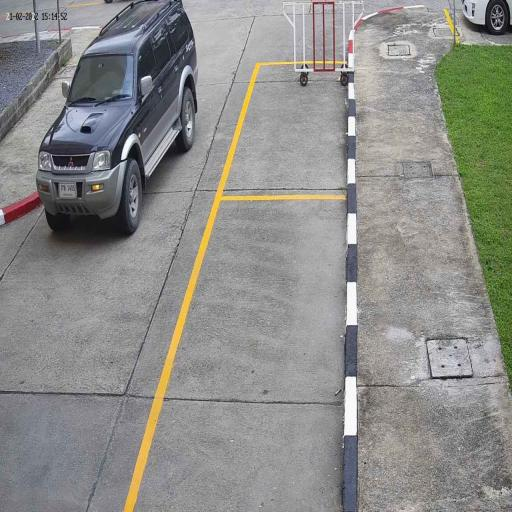car: (33, 0, 200, 244)
